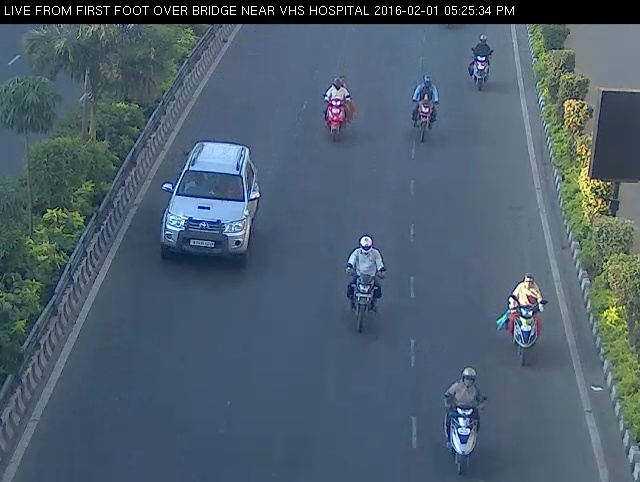Car: (149, 127, 270, 286)
Person: (327, 218, 401, 345), (492, 257, 559, 369), (438, 352, 490, 477), (309, 71, 364, 148), (408, 61, 442, 152), (459, 30, 498, 95)
